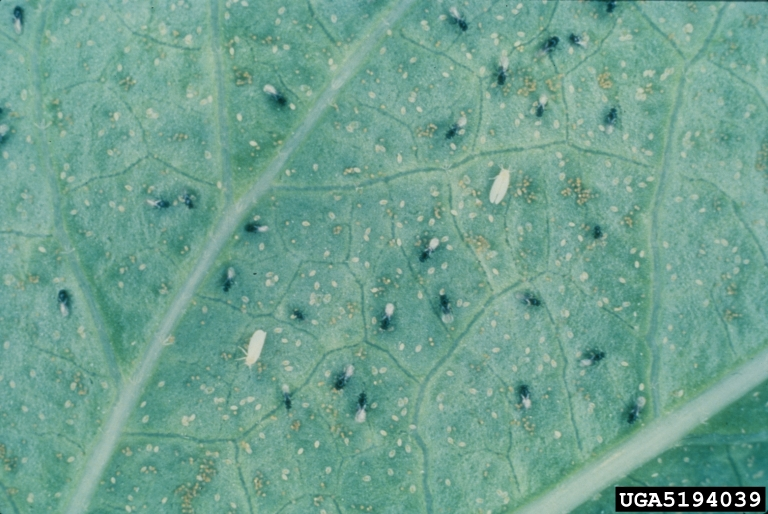Tobacco Whitefly: (482, 162, 521, 218), (242, 323, 278, 381)
